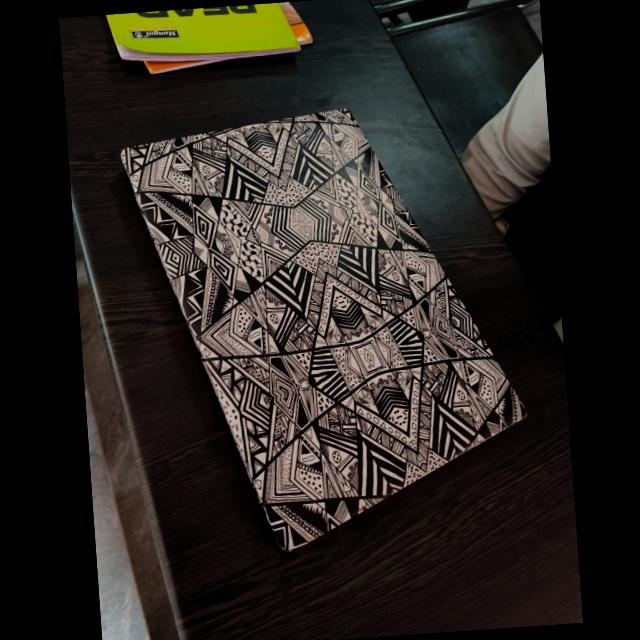laptop: (96, 82, 545, 568)
